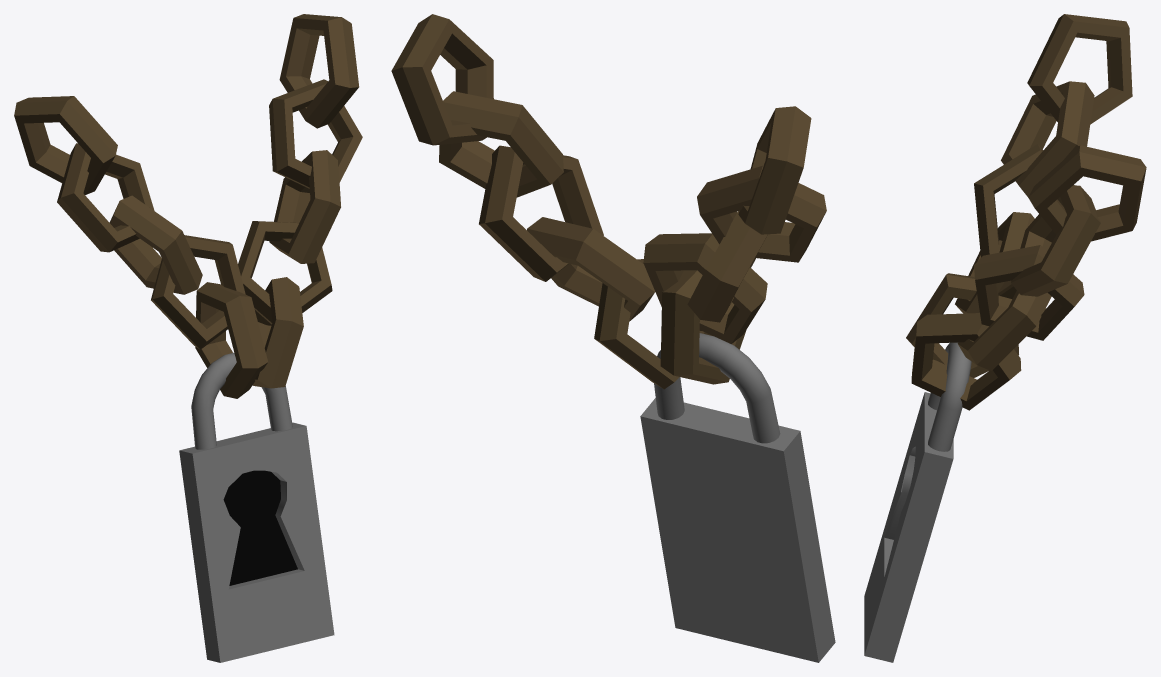
Rendered from chainlock.fbx.
3 views of the same model, side by side, from view 1: azimuth 30°, elevation 25°; view 2: azimuth 150°, elevation 25°; view 3: azimuth 270°, elevation 25° (orthographic). The views are drawn at different scales.
Parts seen in each view (by area): view 1: pCube6; view 2: pCube6; view 3: pCube6.
Boxes of the visible parts, x1,y1,x2,y2 form: pCube6: (14, 14, 362, 662); pCube6: (391, 14, 835, 662); pCube6: (864, 14, 1146, 662).
Bounding box in the file's own units: 0.1085 × 0.1692 × 0.0763.
